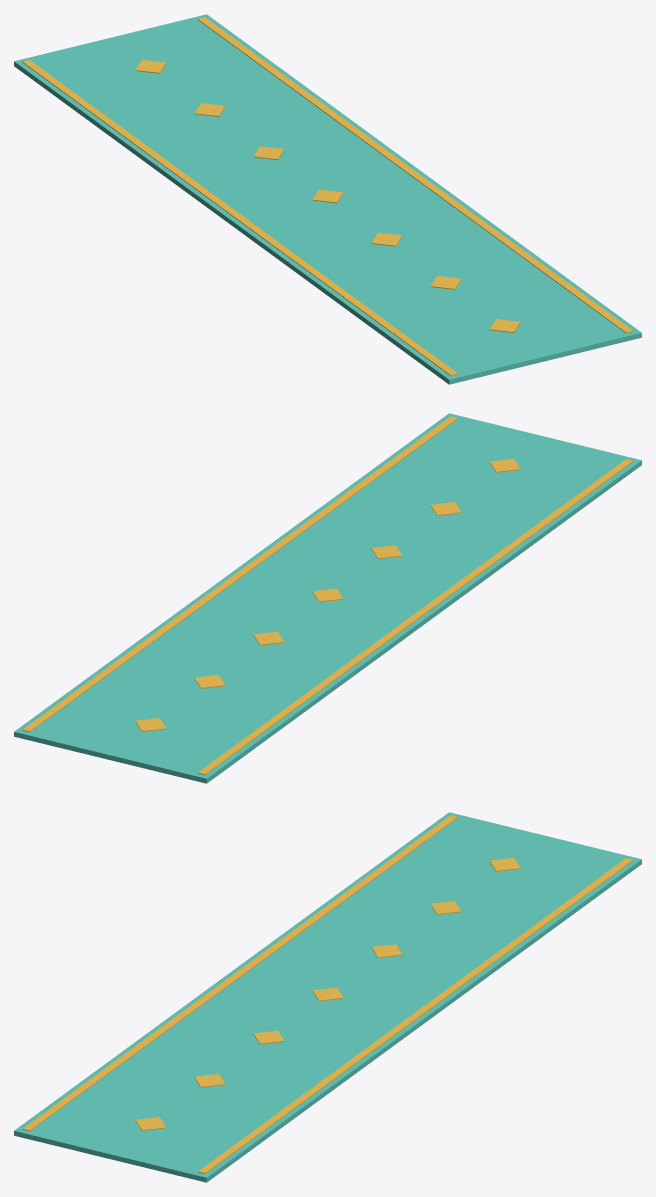
3 renders of one model, top to bottom at view 1: azimuth 30°, elevation 25°; view 2: azimuth 150°, elevation 25°; view 3: azimuth 330°, elevation 25°, orthographic.
Visible parts, largest first — view 1: Aisle runner, Woven gold border, Woven gold border.001; view 2: Aisle runner, Woven gold border, Woven gold border.001; view 3: Aisle runner, Woven gold border, Woven gold border.001.
Part boxes in pixels (box(x1,y1,x2,y2)): Aisle runner: box(14, 14, 641, 384); Woven gold border: box(22, 60, 457, 375); Woven gold border.001: box(197, 17, 633, 333); Aisle runner: box(14, 413, 641, 783); Woven gold border: box(198, 459, 633, 774); Woven gold border.001: box(22, 416, 458, 732); Aisle runner: box(14, 812, 641, 1182); Woven gold border: box(22, 815, 458, 1131); Woven gold border.001: box(198, 858, 633, 1173).
Size of the model in its own units: 66 by 1.95 by 258.
